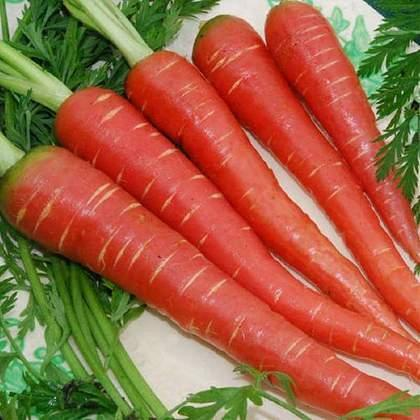carrot: (29, 39, 420, 345)
